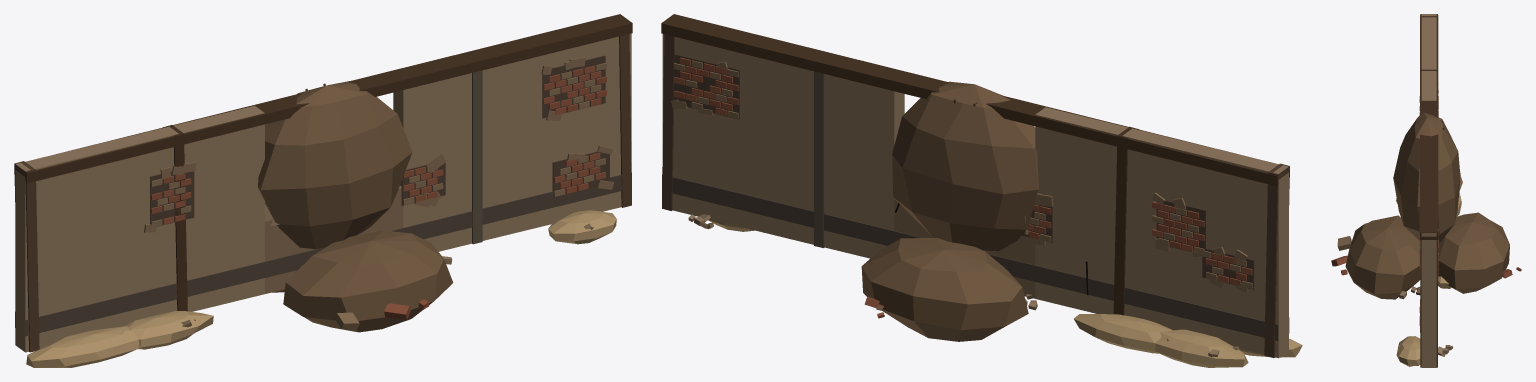
File: TownWallB.glb
3 renders of one model, left to right at view 1: azimuth 30°, elevation 25°; view 2: azimuth 150°, elevation 25°; view 3: azimuth 270°, elevation 25°, orthographic. The views are drawn at different scales.
Parts seen in each view (by area): view 1: TownWallB.001; view 2: TownWallB.001; view 3: TownWallB.001.
Part boxes in pixels (x1=…): TownWallB.001: x1=14, y1=14, x2=632, y2=367; TownWallB.001: x1=661, y1=14, x2=1302, y2=367; TownWallB.001: x1=1331, y1=14, x2=1521, y2=367.
Bounding box in the file's own units: 14.09 × 4.9 × 5.14.
